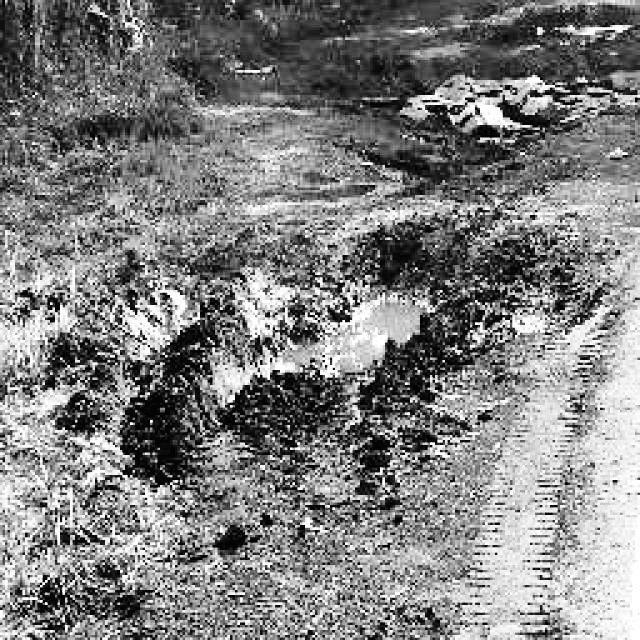Pothole: (62, 217, 572, 475), (366, 65, 602, 150), (494, 4, 640, 54)
